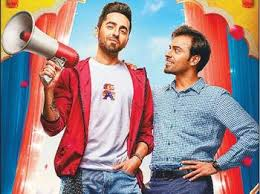Bad: (40, 2, 260, 194)
